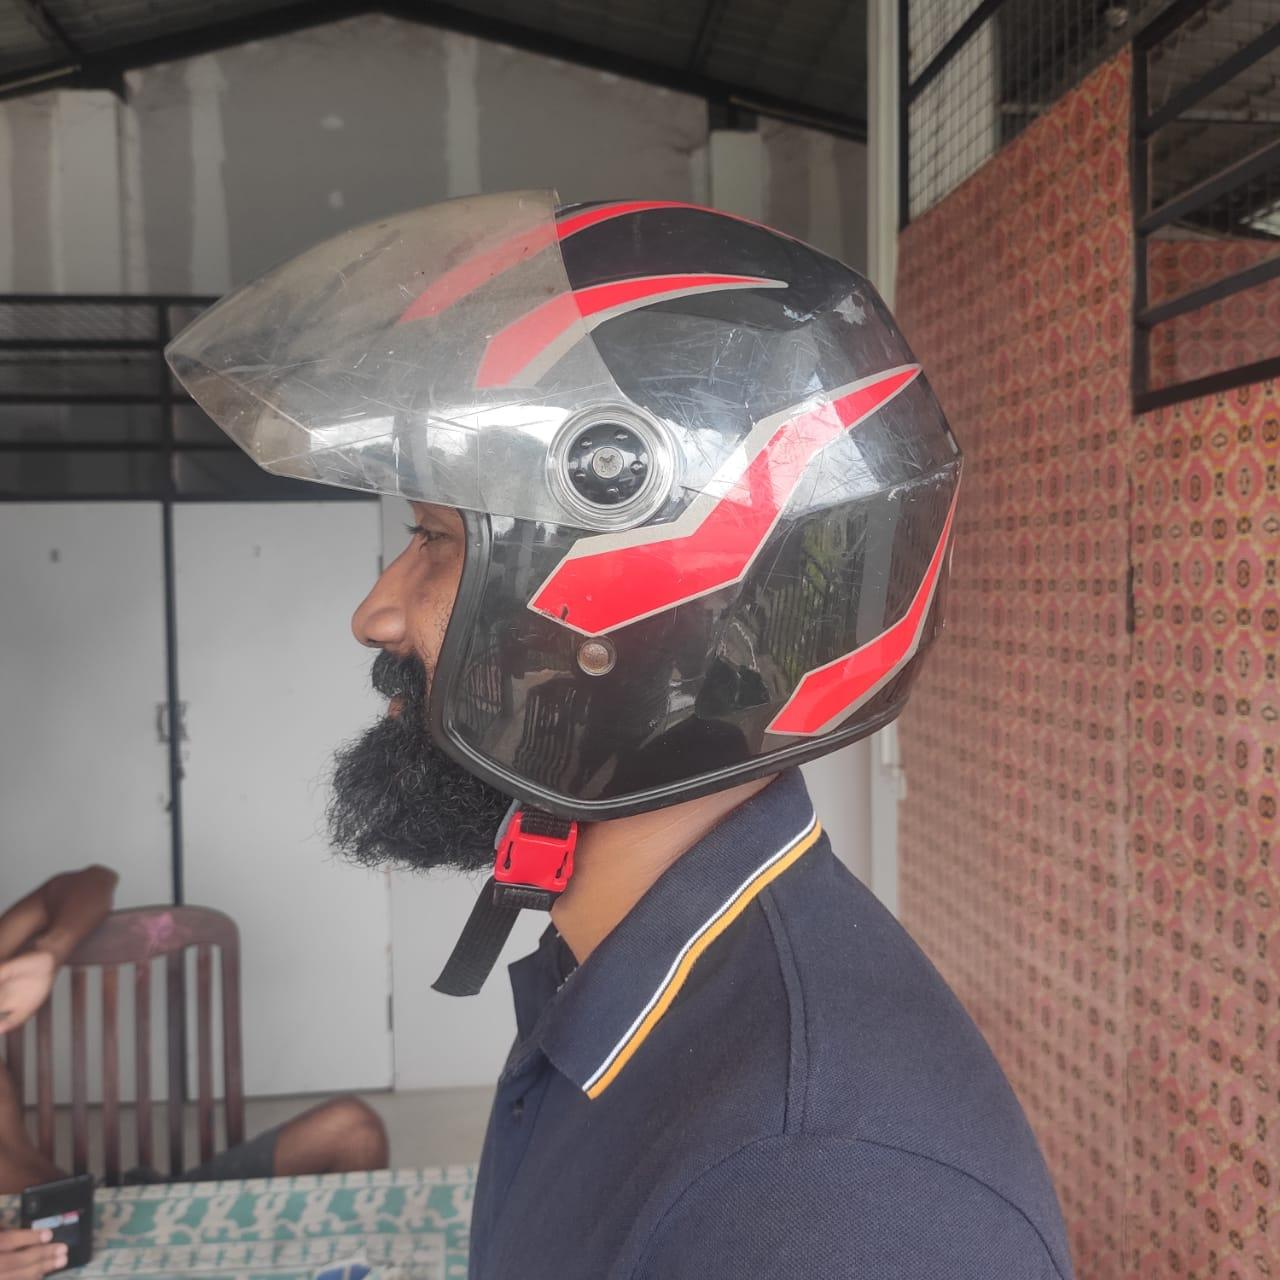helmet: (161, 188, 965, 818)
